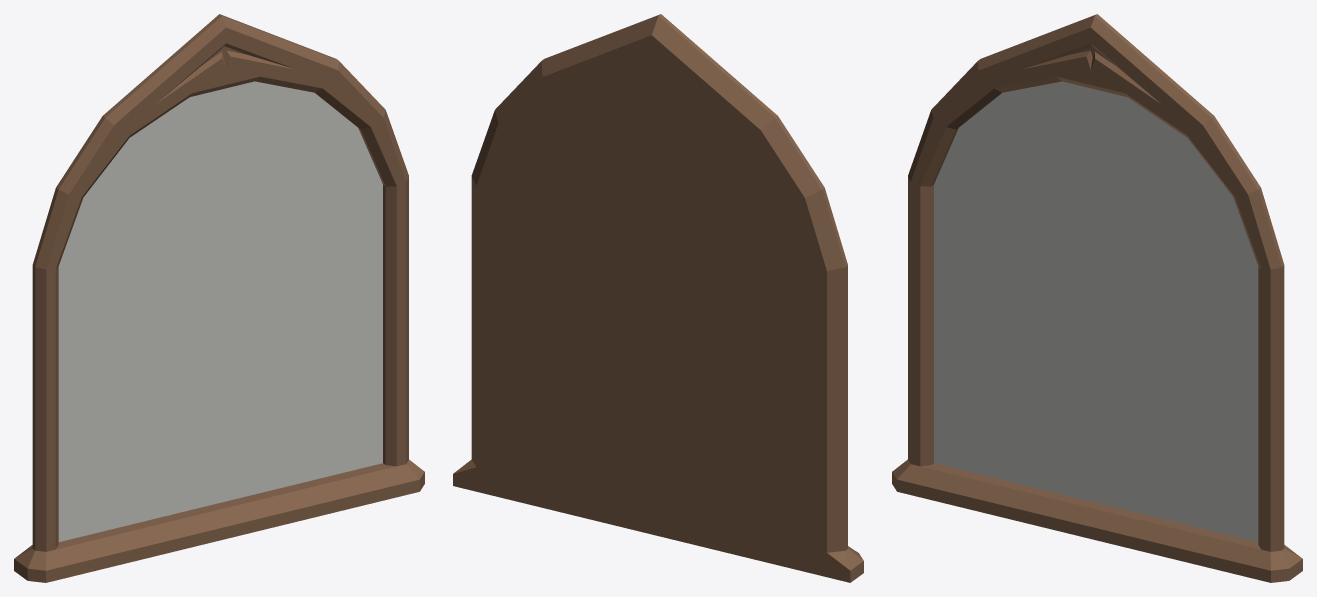
The model's file is Prop_Bedroom_Dresser_Mirror.obj.
3 views of the same model, side by side, from view 1: azimuth 30°, elevation 25°; view 2: azimuth 150°, elevation 25°; view 3: azimuth 330°, elevation 25° (orthographic).
Visible parts, largest first — view 1: object1; view 2: object1; view 3: object1.
Part boxes in pixels (x1,y1,x2,y2): object1: (14,14,424,582); object1: (453,14,863,582); object1: (892,14,1302,582).
Bounding box in the file's own units: 0.85 × 1.05 × 0.075.
